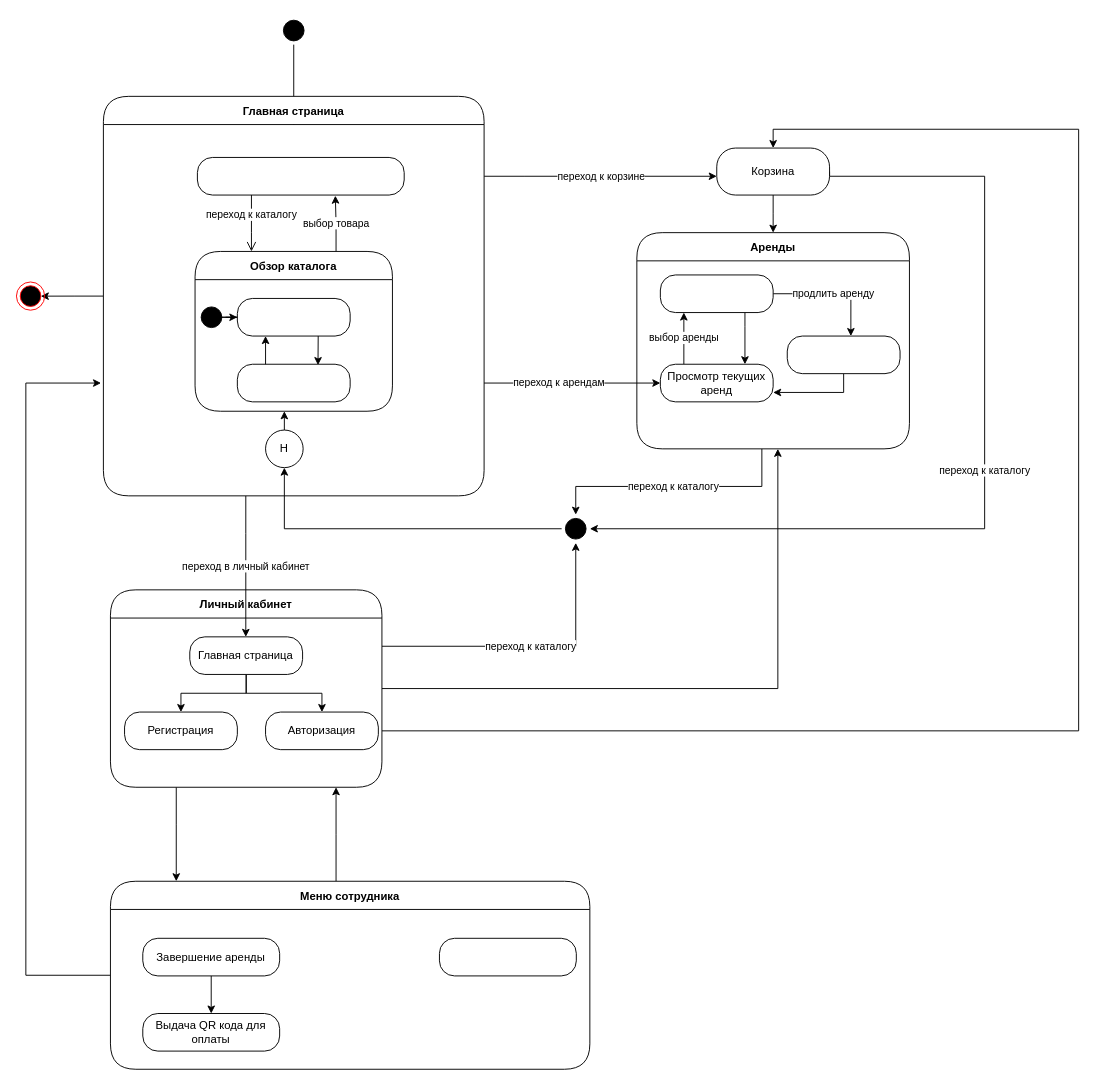
Some shapes in this 1103 by 1086 pixel diagram are drawn without their labels. The centre of each missing label's shape, as x and y in pixels:
"Информация об аренде" belongs at (716,293).
"Описание товара" belongs at (300,176).
"По алфавиту" belongs at (293,317).
"По категориям" belongs at (293,382).
"Продление аренды" belongs at (843,354).
"Управление инвентарем" belongs at (507,956).
